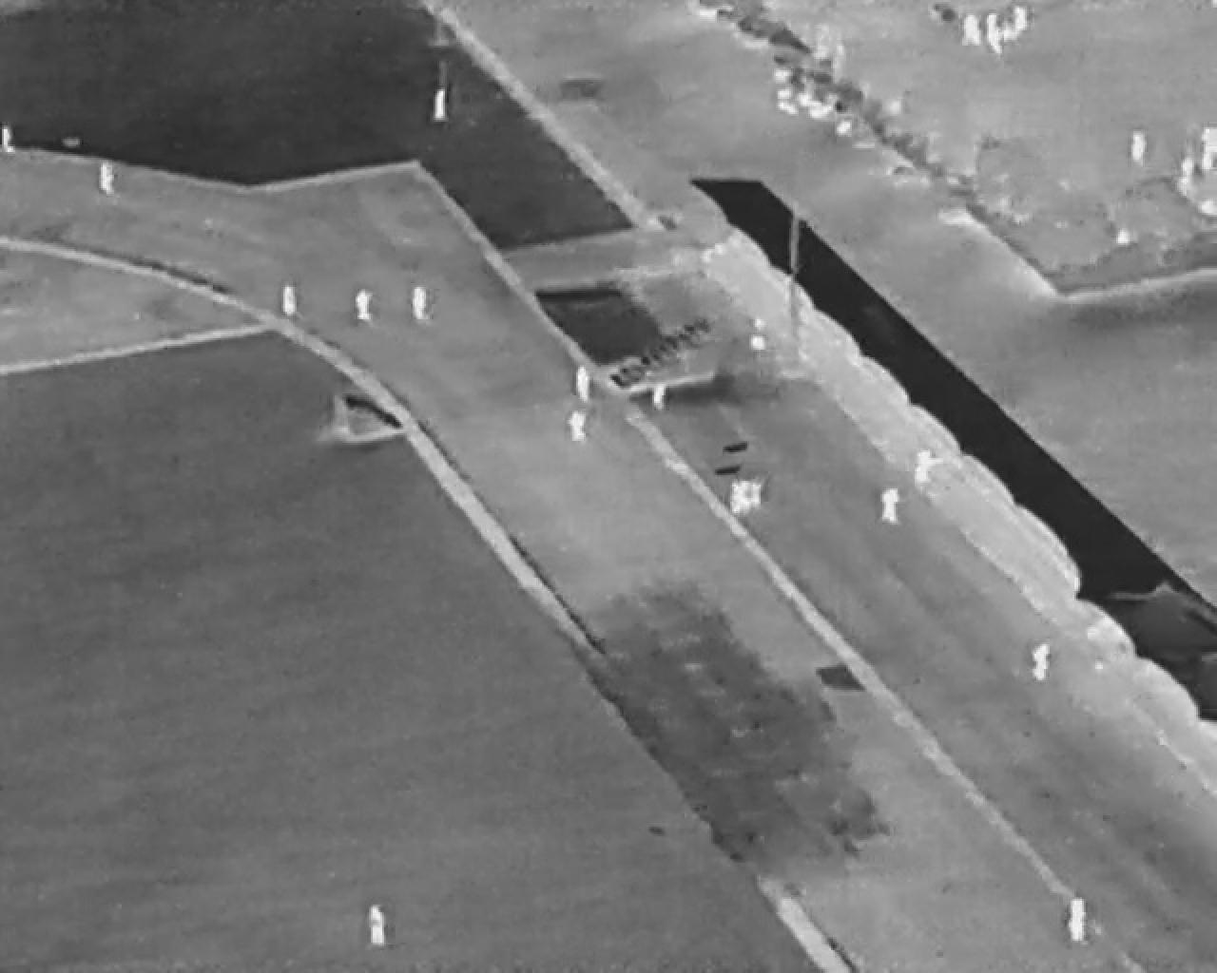person: (1066, 898, 1091, 944), (1030, 641, 1053, 683), (879, 487, 902, 527), (1129, 128, 1151, 168), (748, 315, 767, 358), (370, 904, 389, 947), (433, 85, 452, 126), (1201, 128, 1217, 176), (568, 411, 589, 446), (355, 288, 376, 322), (100, 159, 119, 195), (412, 288, 431, 322), (282, 282, 299, 318), (651, 379, 668, 413), (577, 366, 590, 404), (1, 124, 16, 155)
